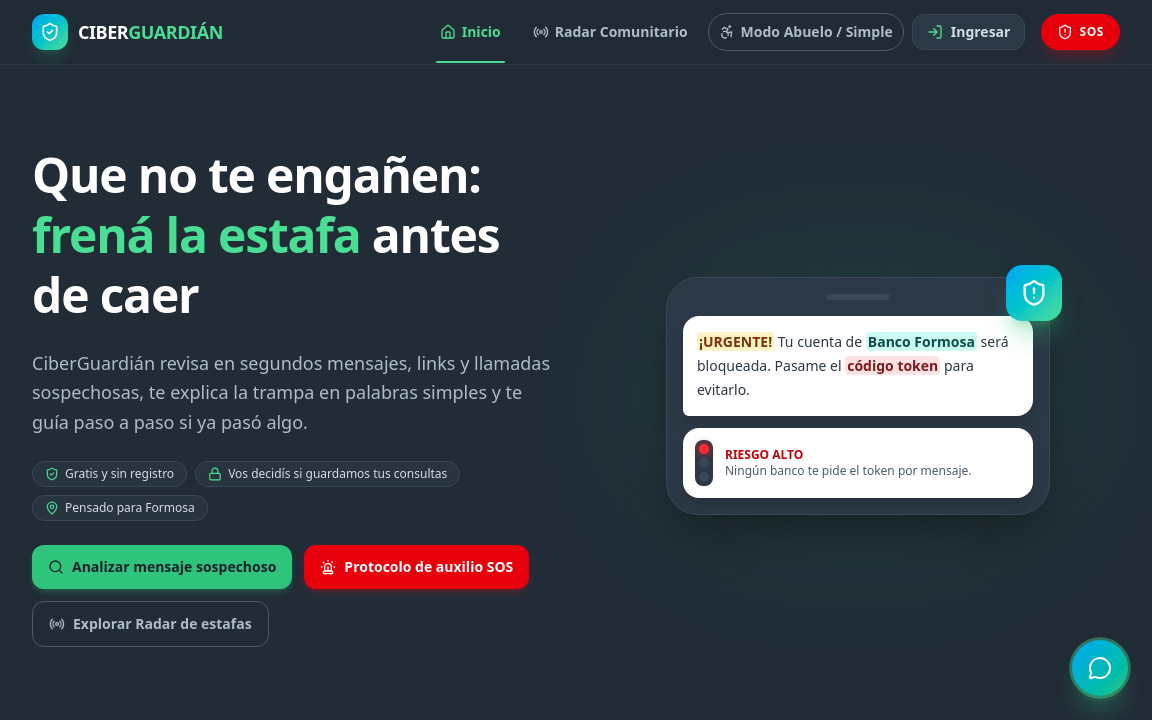
Test: App: landing y navegación › el logo vuelve a la landing desde otra sección
The image size is (1152, 720).
Click the button "Radar Comunitario".
click(610, 32)  # box [521,14,700,50]
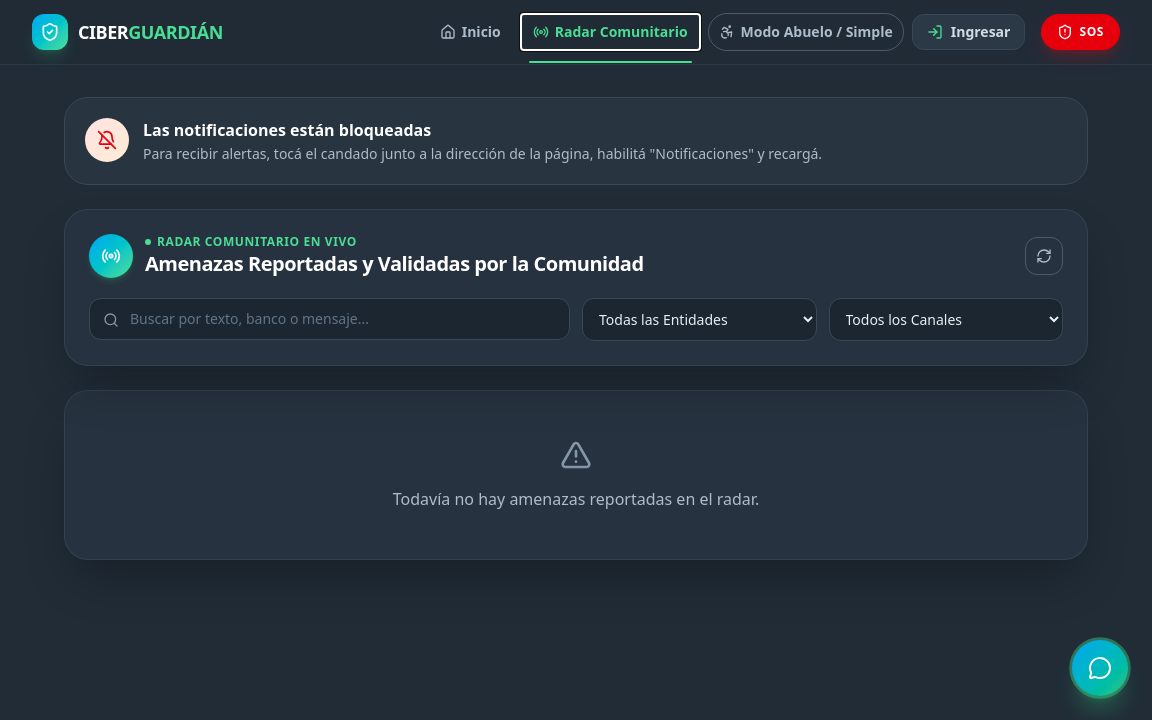
Check: the text "frená la estafa" is gone
Click the button with aria-label "CiberGuardián: ir al inicio".
click(127, 32)  # box [28,10,227,54]
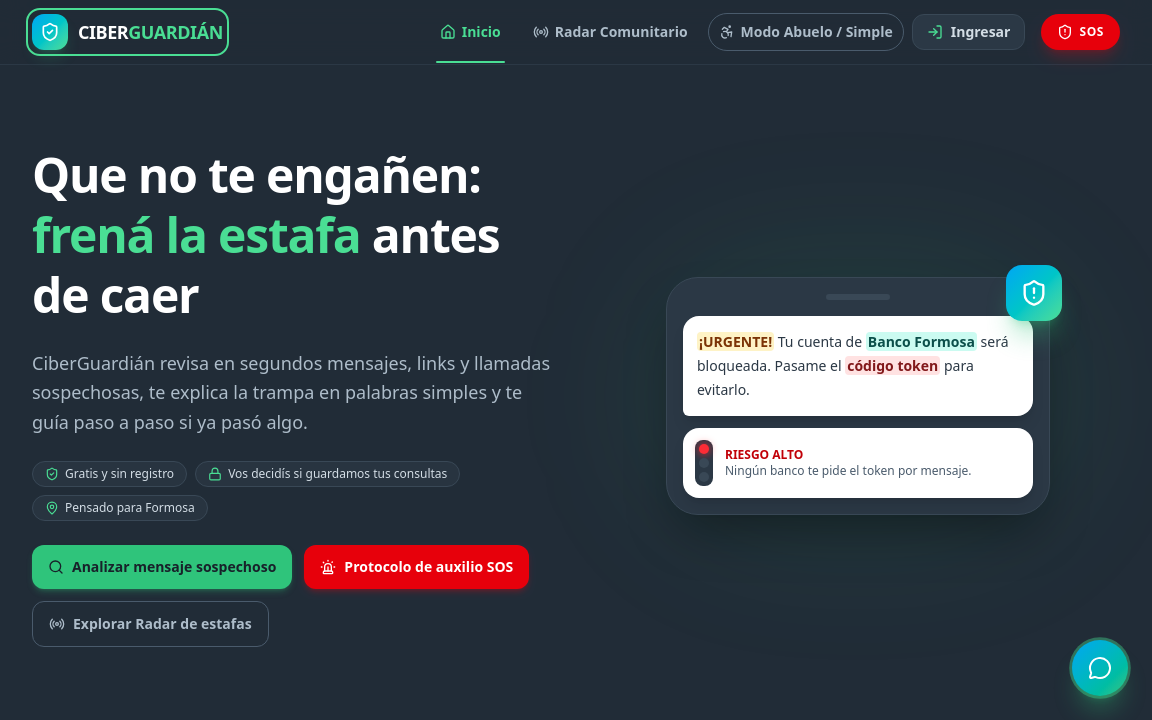
Check: the heading "Que no te engañen: frená la estafa antes de caer" is shown, box [32,145,556,325]
